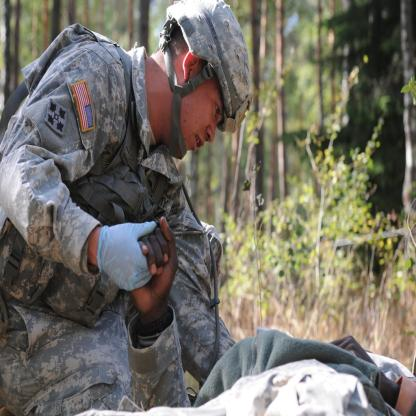Helmet: (149, 2, 255, 158)
